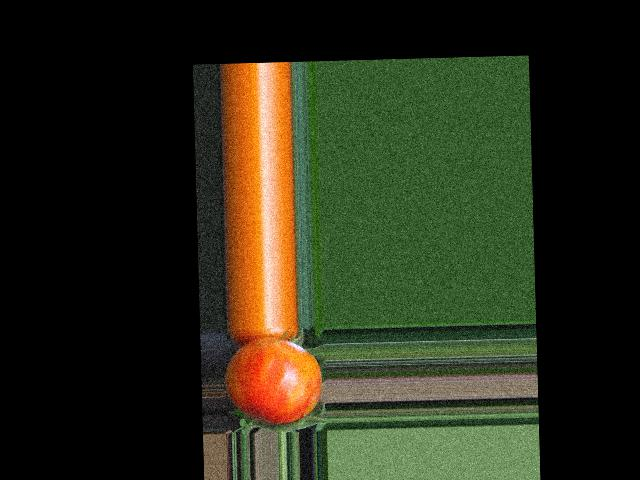tomato: (223, 336, 322, 425)
